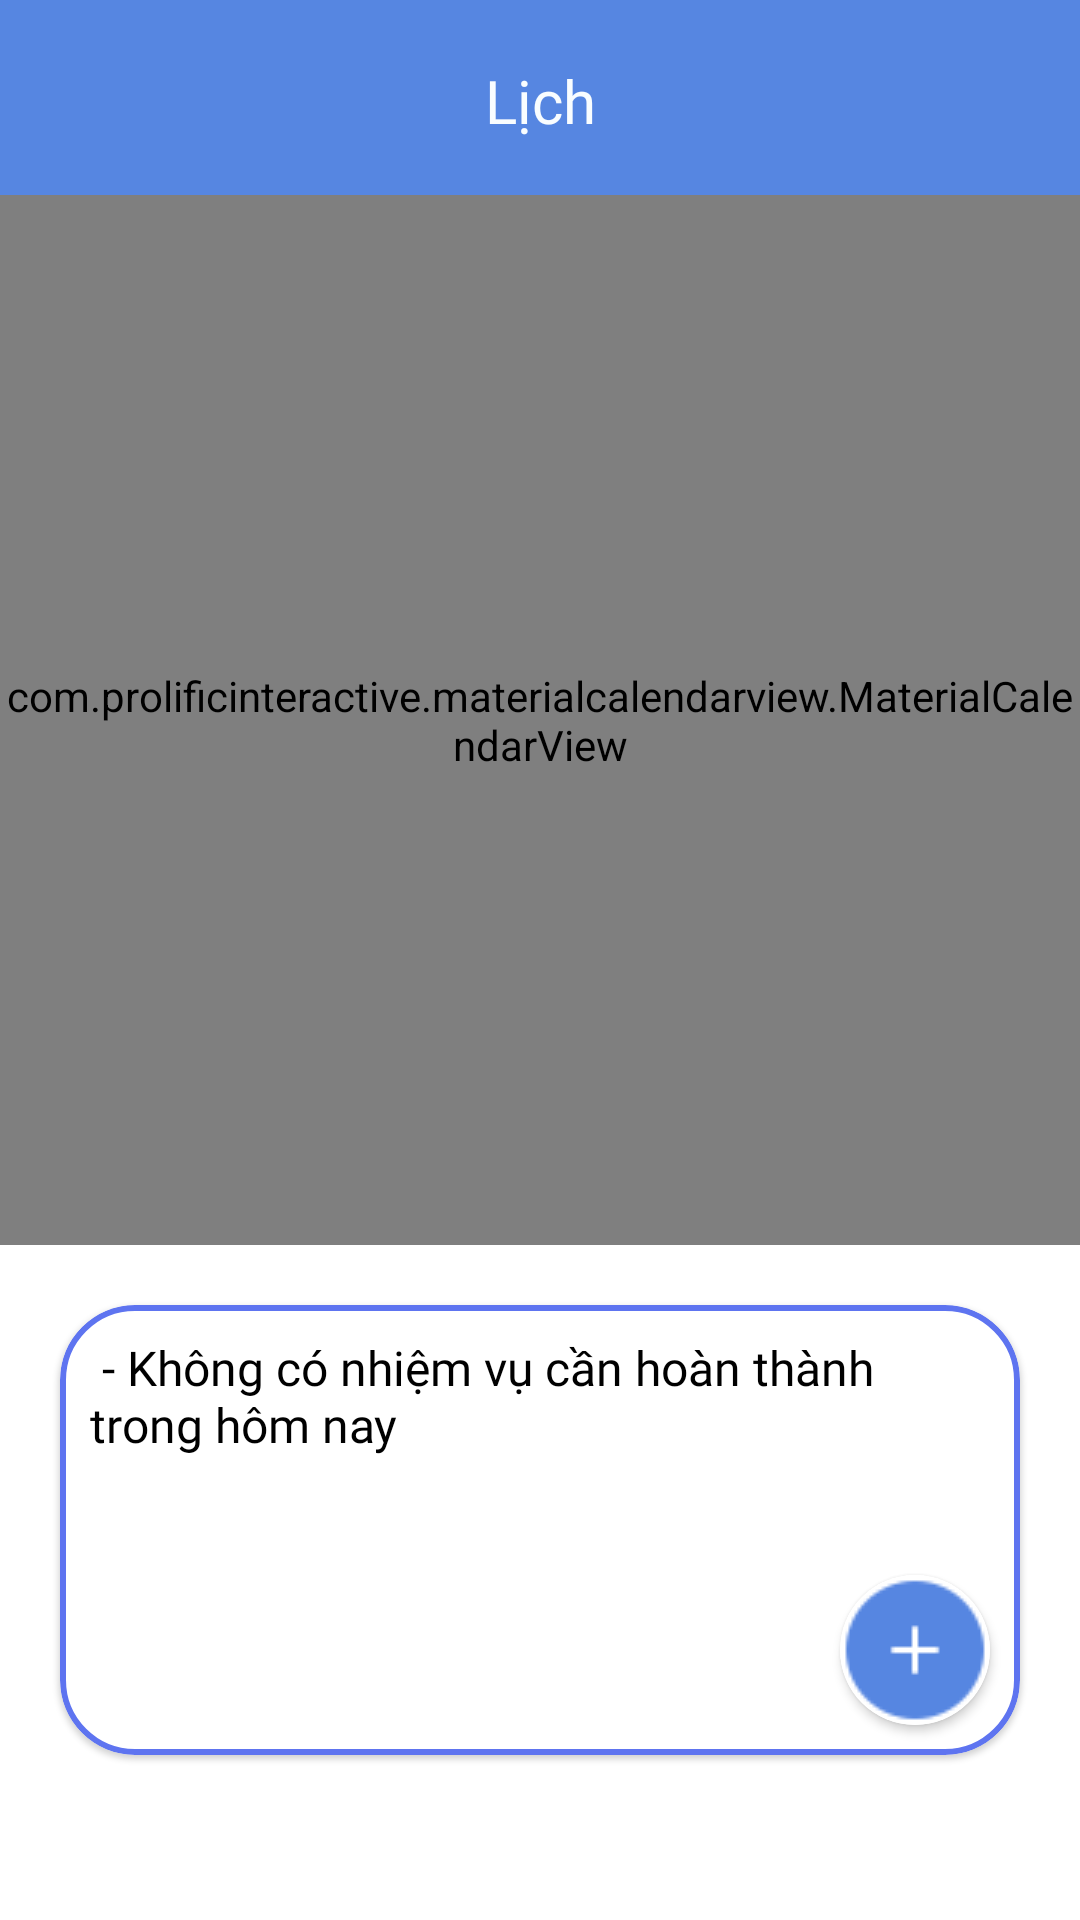

Screen size 1080x1920. Icon name, then its center in pixels as point (x, y):
add: point (916, 1652)
